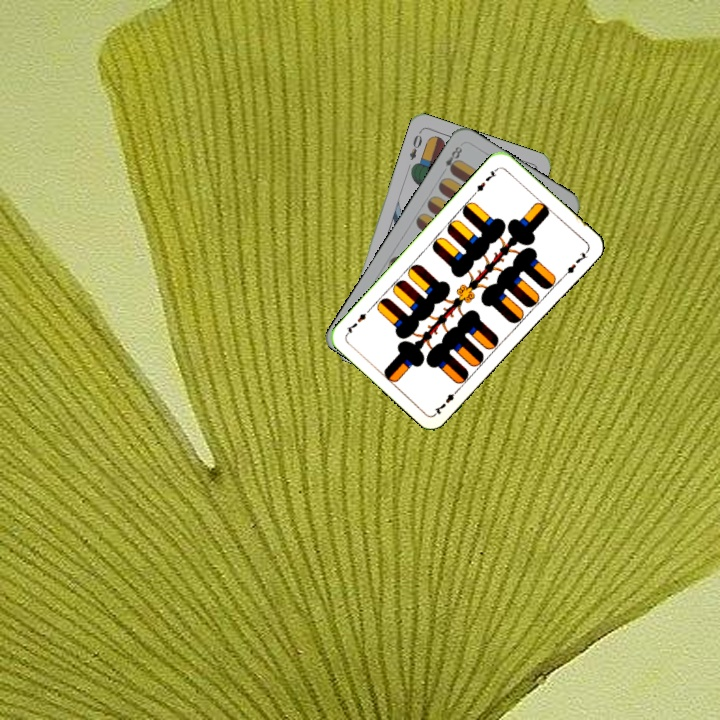E7: (430, 384, 463, 417), (470, 164, 501, 197)
E8: (438, 142, 465, 177)
EO: (405, 127, 425, 163)
